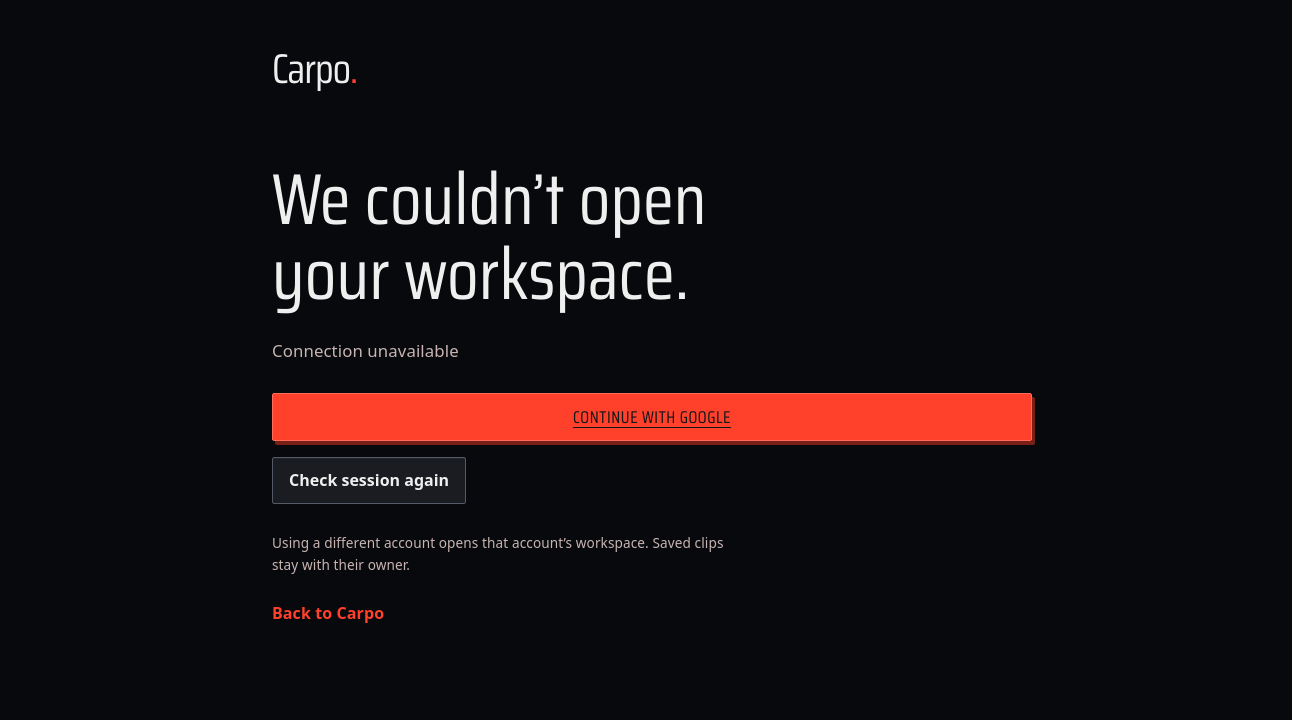
Scenario: private workspace session › recovers from a failed identity check without showing a signed-in screen
Expected: the message reads "Connection unavailable", x1=272 y1=339 x2=459 y2=362
Step 1. Click the button "Check session again" → coordinates (369, 480), box x1=272 y1=457 x2=466 y2=504
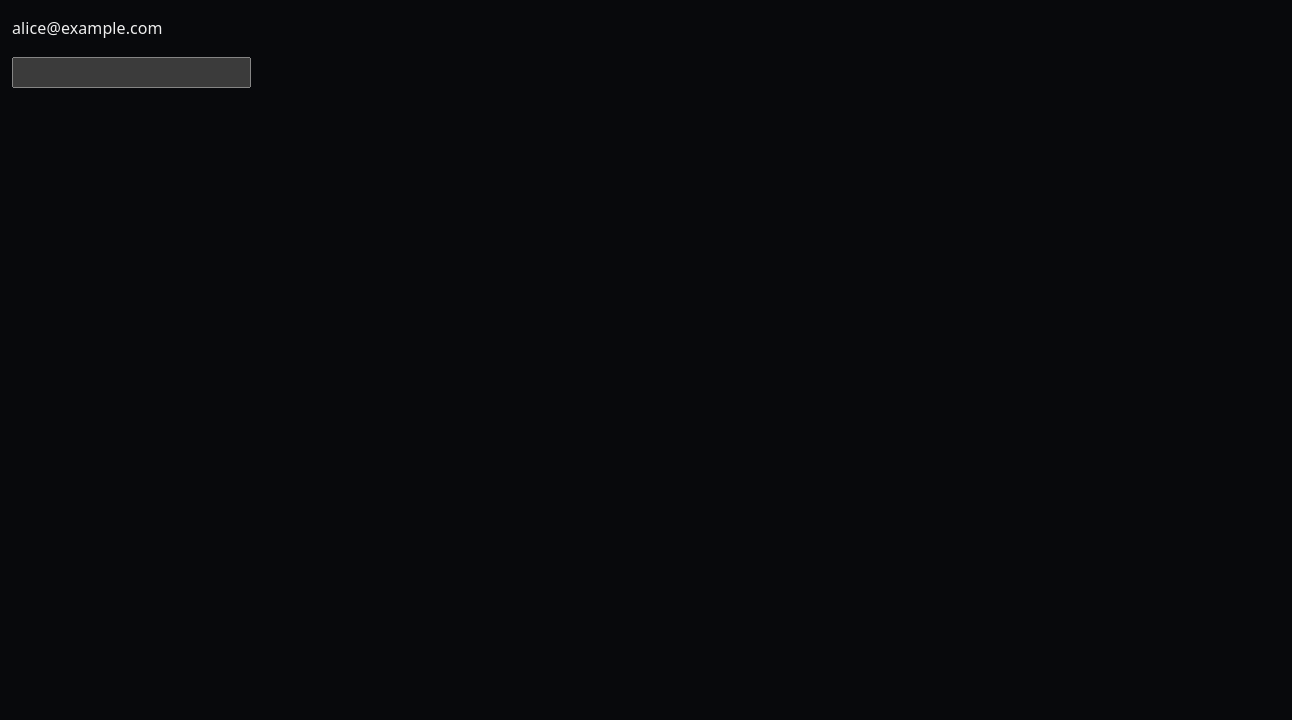
Expected: the field named "Draft" is shown, x1=12 y1=57 x2=251 y2=88
